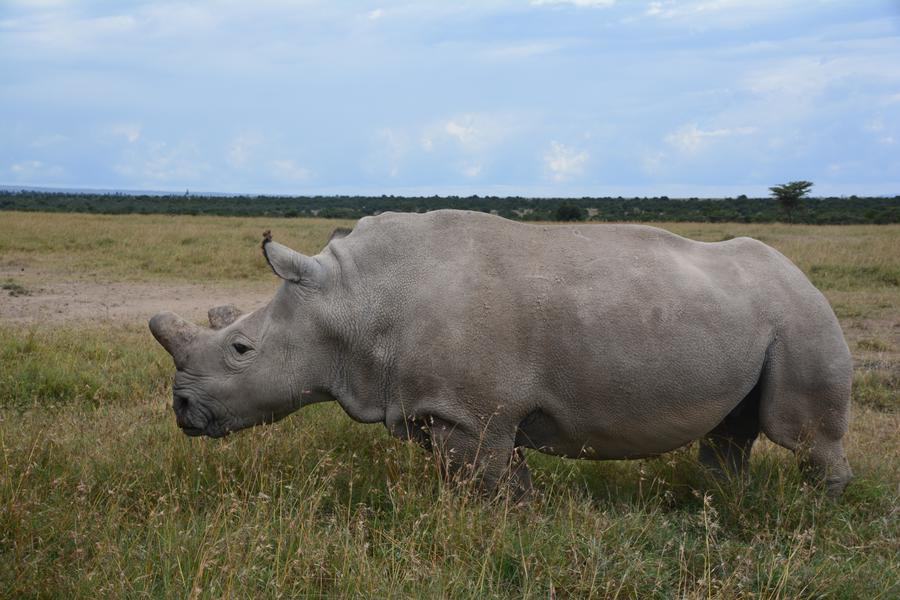rhino: (176, 200, 825, 483)
